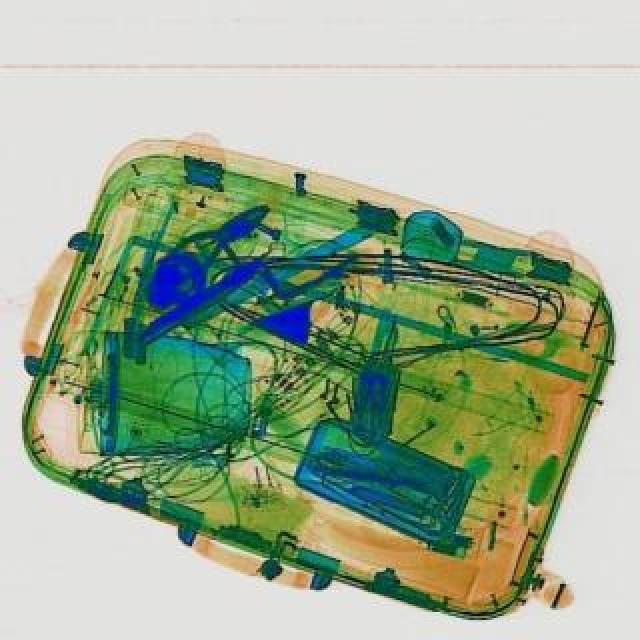wrench: (140, 190, 280, 294)
